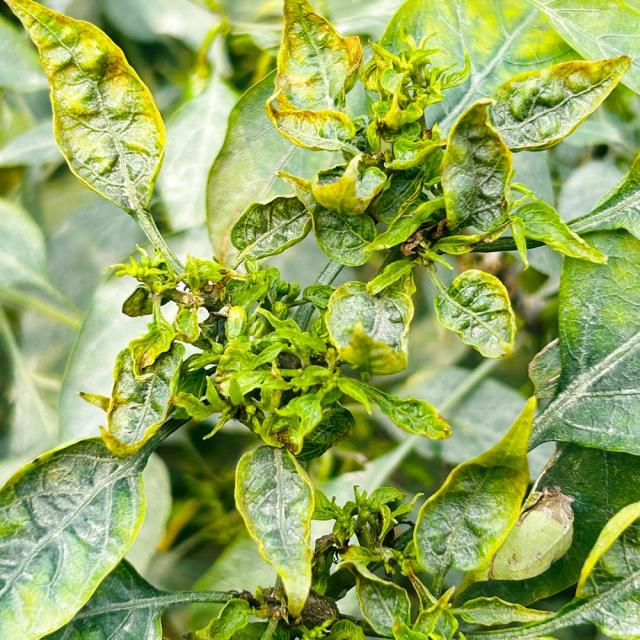Chilli_Leaf_Curl: (1, 1, 638, 638), (4, 0, 186, 275), (0, 434, 149, 638), (411, 394, 538, 585), (264, 0, 364, 154), (232, 443, 317, 619), (487, 52, 631, 152), (78, 338, 186, 458), (438, 97, 514, 235), (322, 278, 414, 377), (429, 266, 516, 360)
